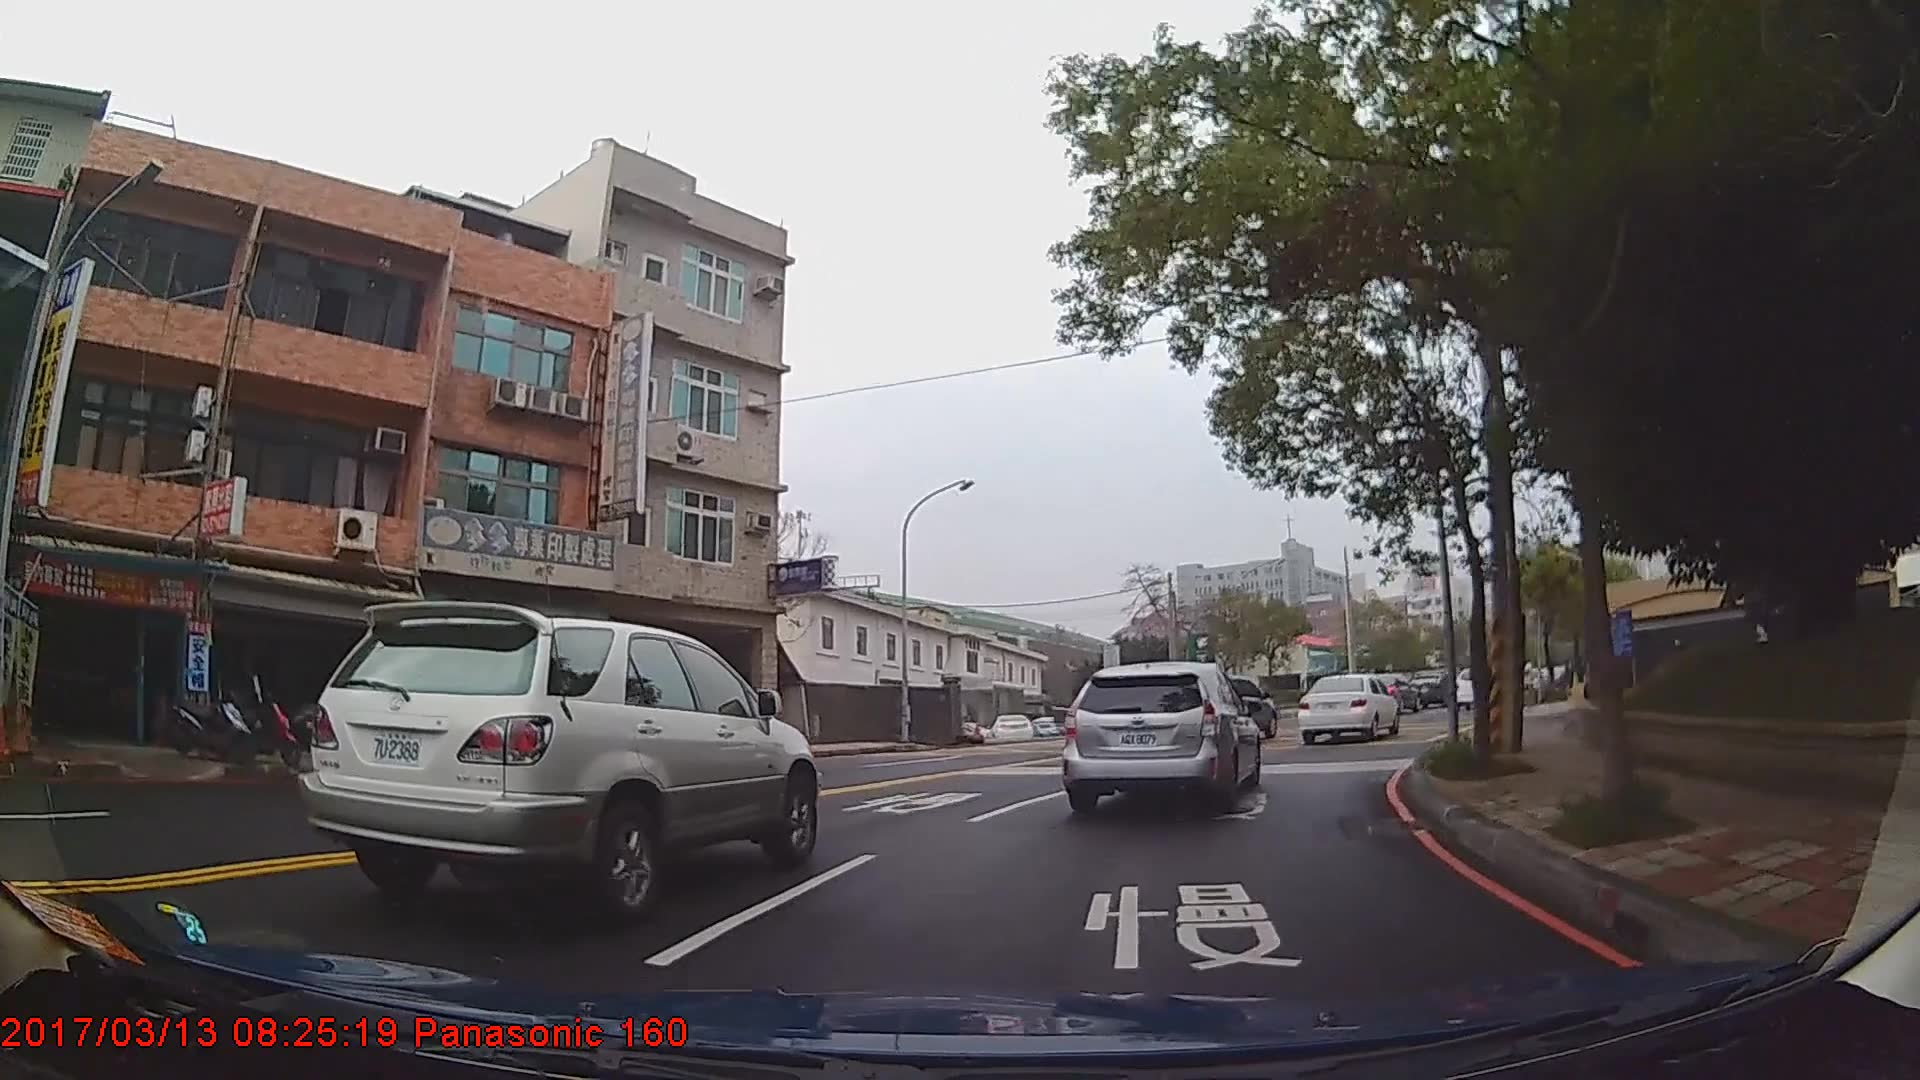vehicle: (293, 599, 820, 930), (1056, 657, 1257, 808), (1295, 670, 1400, 741), (1187, 673, 1276, 737), (989, 709, 1034, 738)
